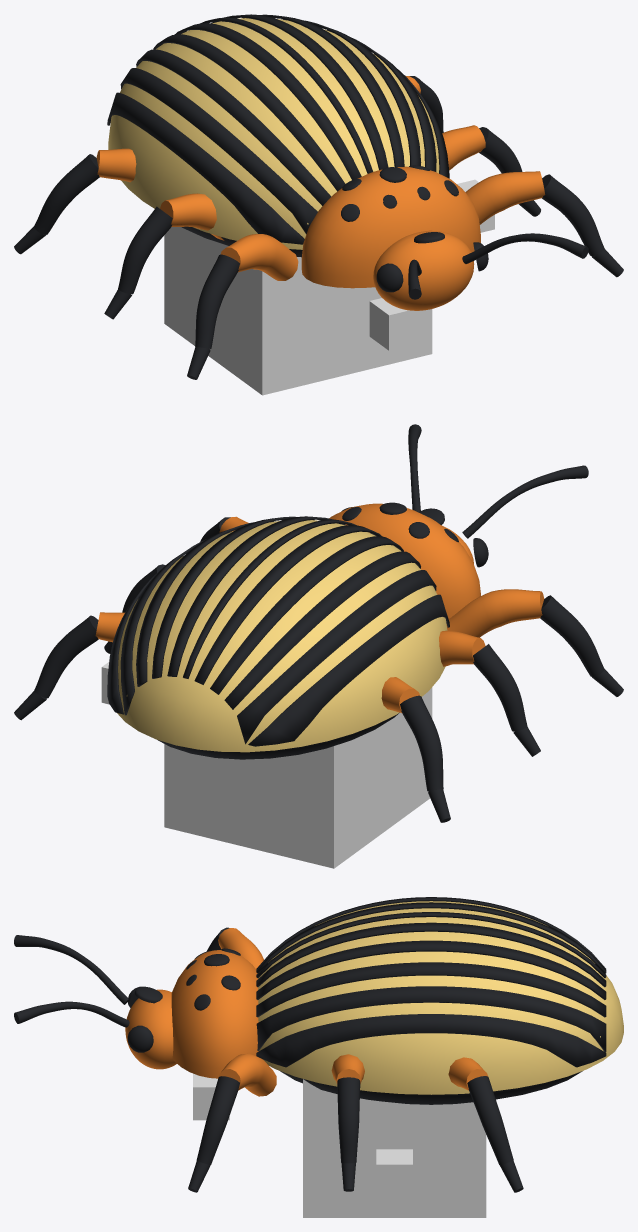
The model's file is Bug.fbx.
3 views of the same model, one above another, from view 1: azimuth 30°, elevation 25°; view 2: azimuth 150°, elevation 25°; view 3: azimuth 270°, elevation 25° (orthographic). The views are drawn at different scales.
Parts seen in each view (by area): view 1: BugBody__Black, BugBody__Shell, Origin__Pivot, BugBody__BugOrange, BugBody/HeadGroup__BugOrange, BugBody/HeadGroup__Black, BugBody/Hip0-1__Black, BugBody/Hip01__BugOrange, BugBody/Hip1-1__Black, BugBody/Hip2-1__Black, BugBody/Hip01__Black, BugBody/Hip0-1__BugOrange (+6 smaller); view 2: BugBody__Shell, BugBody__Black, Origin__Pivot, BugBody__BugOrange, BugBody/Hip0-1__BugOrange, BugBody/HeadGroup__Black, BugBody/Hip2-1__Black, BugBody/Hip21__Black, BugBody/Hip1-1__Black, BugBody/Hip0-1__Black, BugBody/Hip1-1__BugOrange, BugBody/Hip2-1__BugOrange (+1 smaller); view 3: BugBody__Black, BugBody__Shell, Origin__Pivot, BugBody__BugOrange, BugBody/HeadGroup__Black, BugBody/HeadGroup__BugOrange, BugBody/Hip21__Black, BugBody/Hip01__Black, BugBody/Hip11__Black, Origin__AxisX, BugBody/Hip01__BugOrange, BugBody/Hip0-1__BugOrange (+3 smaller).
Boxes of the visible parts, x1,y1,x2,y2 form: BugBody__Black: (107,14,458,257); BugBody__Shell: (108,18,439,249); Origin__Pivot: (164,227,432,395); BugBody__BugOrange: (301,166,480,288); BugBody/HeadGroup__BugOrange: (373,230,474,310); BugBody/HeadGroup__Black: (376,232,588,299); BugBody/Hip0-1__Black: (187,254,239,379); BugBody/Hip01__BugOrange: (465,171,545,224); BugBody/Hip1-1__Black: (104,206,172,319); BugBody/Hip2-1__Black: (14,154,99,254); BugBody/Hip01__Black: (542,174,623,277); BugBody/Hip0-1__BugOrange: (221,234,298,280); BugBody__Shell: (117,520,447,752); BugBody__Black: (107,502,458,759); Origin__Pivot: (164,687,432,868); BugBody__BugOrange: (329,503,480,618); BugBody/Hip0-1__BugOrange: (446,589,544,637); BugBody/HeadGroup__Black: (408,424,588,567); BugBody/Hip2-1__Black: (400,695,450,822); BugBody/Hip21__Black: (14,615,98,720); BugBody/Hip1-1__Black: (473,644,540,756); BugBody/Hip0-1__Black: (540,595,623,696); BugBody/Hip1-1__BugOrange: (439,630,485,666); BugBody/Hip2-1__BugOrange: (381,677,419,712); BugBody__Black: (186,897,606,1104); BugBody__Shell: (258,901,623,1094); Origin__Pivot: (303,1079,486,1217); BugBody__BugOrange: (171,950,258,1078); BugBody/HeadGroup__Black: (14,935,162,1052); BugBody/HeadGroup__BugOrange: (125,989,176,1069); BugBody/Hip21__Black: (467,1076,523,1192); BugBody/Hip01__Black: (188,1076,239,1192); BugBody/Hip11__Black: (337,1077,360,1191); Origin__AxisX: (376,1149,412,1197); BugBody/Hip01__BugOrange: (218,1053,276,1096); BugBody/Hip0-1__BugOrange: (218,928,263,969).
Size of the model in its own units: 2.56 by 1.6 by 3.32.
